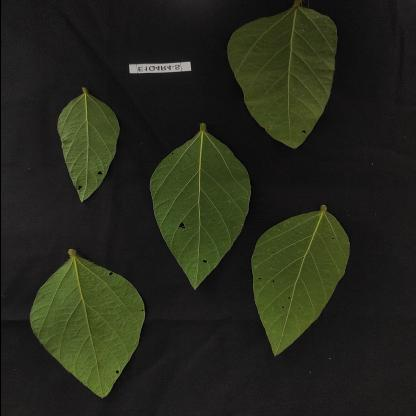label: (126, 56, 190, 82)
leaflets: (21, 231, 145, 415), (249, 199, 369, 360), (143, 108, 247, 290), (222, 1, 342, 152), (42, 68, 128, 210)
